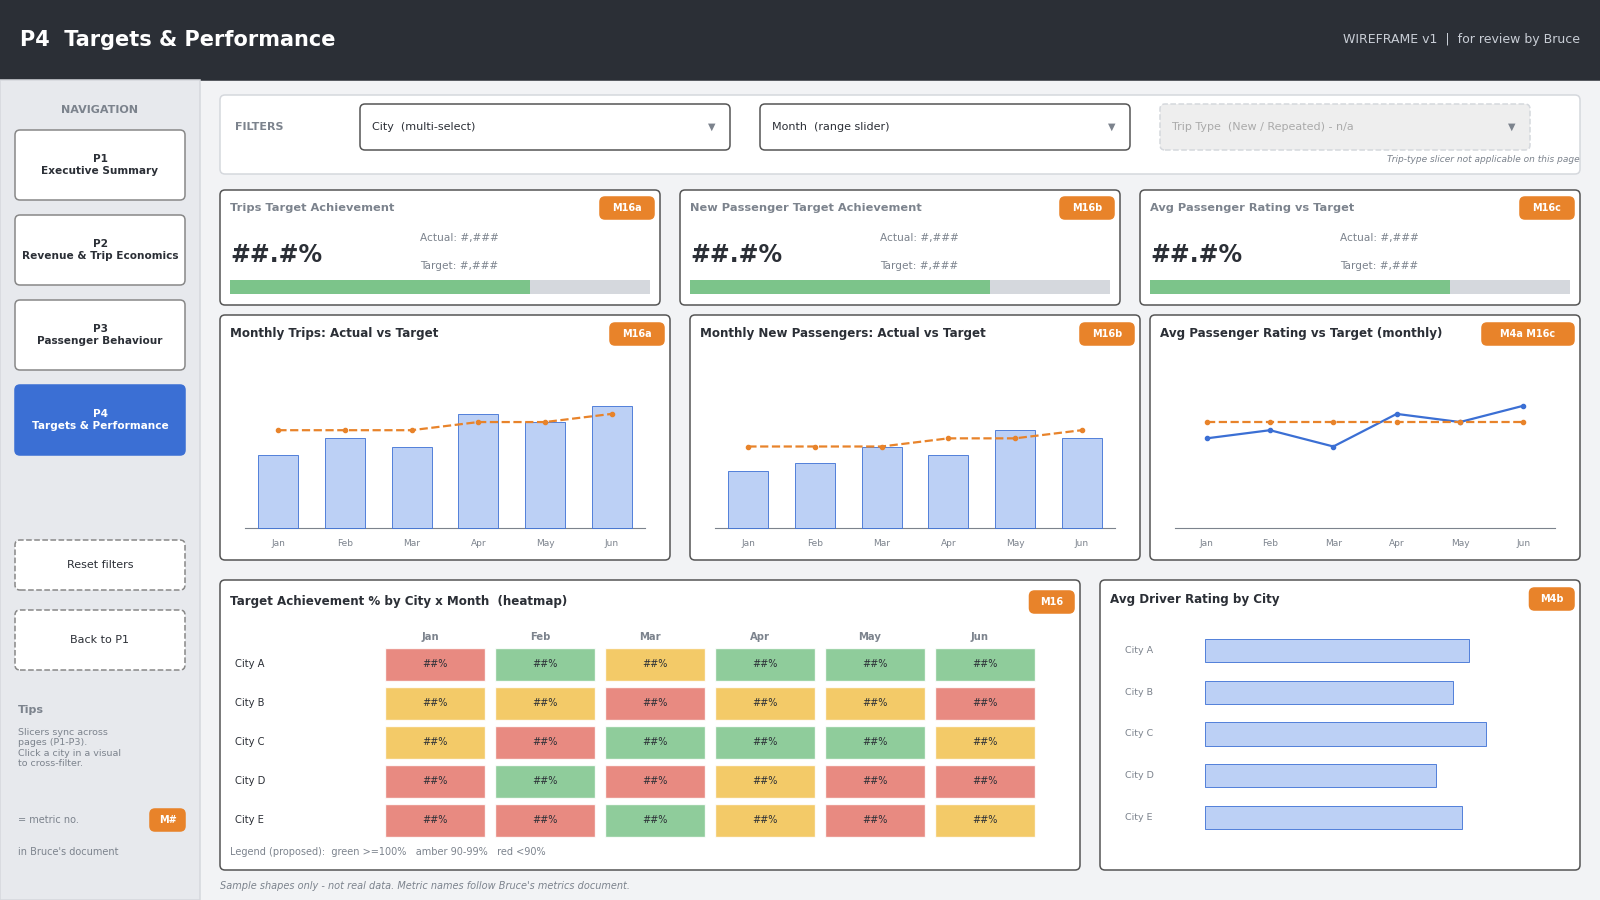

The page's visual inventory and layout, read from the dashboard file:
{"tool":"powerbi","page":{"name":"City Performance","canvas":[1920,1080],"ordinal":1},"visuals":[{"type":"shape","box":[0,0,1920,88],"z":0},{"type":"card","title":"Actual Trips","fields":{"Values":["key_measure.Total_trips"]},"box":[30,176,296,104],"z":0},{"type":"card","title":"Trips Target Achievement","fields":{"Values":["key_measure.Trips Achievement Label"]},"box":[342,176,296,104],"z":0},{"type":"card","title":"New Passengers","fields":{"Values":["key_measure.new_passenger"]},"box":[654,176,296,104],"z":0},{"type":"card","title":"New Passengers Achievement","fields":{"Values":["key_measure.New Passengers Achievement Label"]},"box":[966,176,296,104],"z":0},{"type":"card","title":"Average Passenger Rating","fields":{"Values":["key_measure.Avg_rating"]},"box":[1278,176,296,104],"z":0},{"type":"card","title":"Rating Target Achievement","fields":{"Values":["key_measure.Rating Achievement Label"]},"box":[1590,176,300,104],"z":0},{"type":"lineClusteredColumnComboChart","title":"City-wise Revenue & Trips","fields":{"Category":["dim_city.city_name"],"Y":["key_measure.Total_Fare"],"Y2":["key_measure.Total_trips"]},"box":[30,296,609,360],"z":0},{"type":"lineClusteredColumnComboChart","title":"Actual Trips vs Target Trips (monthly)","fields":{"Category":["dim_month.MonthStart"],"Y":["key_measure.Total_trips"],"Y2":["key_measure.Target_Trips"]},"box":[655,296,609,360],"z":0},{"type":"lineClusteredColumnComboChart","title":"New Passengers vs Target New Passengers (monthly)","fields":{"Category":["dim_month.MonthStart"],"Y":["key_measure.new_passenger"],"Y2":["key_measure.Target_New_Passengers"]},"box":[1280,296,610,360],"z":0},{"type":"tableEx","title":"City Scorecard: Actual vs Target  (▲ at/above target, ▼ below target)","fields":{"Values":["dim_city.city_name","key_measure.Total_trips","key_measure.Target_Trips","key_measure.Trips Achievement Label","key_measure.new_passenger","key_measure.Target_New_Passengers","key_measure.New Passengers Achievement Label","key_measure.Avg_rating","key_measure.Target_Passenger_Rating","key_measure.Rating Achievement Label"]},"box":[941.9,671.5,948.8,408.1],"z":0},{"type":"lineClusteredColumnComboChart","title":"Monthly Revenue & Growth","fields":{"Category":["dim_month.MonthStart"],"Y":["key_measure.Total_Fare"],"Y2":["key_measure.Revenue Growth Rate %"]},"box":[30,672,440,384],"z":0},{"type":"lineChart","title":"Avg Passenger Rating vs Target Rating","fields":{"Category":["dim_month.MonthStart"],"Y":["key_measure.Avg_rating","key_measure.Target_Passenger_Rating"]},"box":[486,672,440,384],"z":0},{"type":"shape","box":[0,86,1920,3],"z":1},{"type":"textbox","box":[360,10,760,70],"z":2},{"type":"textbox","box":[30,12,330,64],"z":2},{"type":"textbox","box":[360,50,900,30],"z":2},{"type":"textbox","box":[572,108,1318,48],"z":2},{"type":"slicer","title":"CITY","fields":{"Values":["dim_city.city_name"]},"box":[30,100,250,64],"z":5},{"type":"slicer","title":"MONTH","fields":{"Values":["dim_month.MonthStart"]},"box":[296,100,250,64],"z":5}]}

Visuals, with their boxes in screenshot pixels (x1, y1, x2, y2), scaled from the page's 1920x1080 canvas onto the 1600x900 screenshot:
shape: rect(0, 0, 1599, 73)
"Actual Trips" card: rect(25, 147, 272, 233)
"Trips Target Achievement" card: rect(285, 147, 532, 233)
"New Passengers" card: rect(545, 147, 792, 233)
"New Passengers Achievement" card: rect(805, 147, 1052, 233)
"Average Passenger Rating" card: rect(1065, 147, 1312, 233)
"Rating Target Achievement" card: rect(1325, 147, 1575, 233)
"City-wise Revenue & Trips" lineClusteredColumnComboChart: rect(25, 247, 532, 547)
"Actual Trips vs Target Trips (monthly)" lineClusteredColumnComboChart: rect(546, 247, 1053, 547)
"New Passengers vs Target New Passengers (monthly)" lineClusteredColumnComboChart: rect(1067, 247, 1575, 547)
"City Scorecard: Actual vs Target  (▲ at/above target, ▼ below target)" tableEx: rect(785, 560, 1576, 899)
"Monthly Revenue & Growth" lineClusteredColumnComboChart: rect(25, 560, 392, 880)
"Avg Passenger Rating vs Target Rating" lineChart: rect(405, 560, 772, 880)
shape: rect(0, 72, 1599, 74)
textbox: rect(300, 8, 933, 67)
textbox: rect(25, 10, 300, 63)
textbox: rect(300, 42, 1050, 67)
textbox: rect(477, 90, 1575, 130)
"CITY" slicer: rect(25, 83, 233, 137)
"MONTH" slicer: rect(247, 83, 455, 137)
